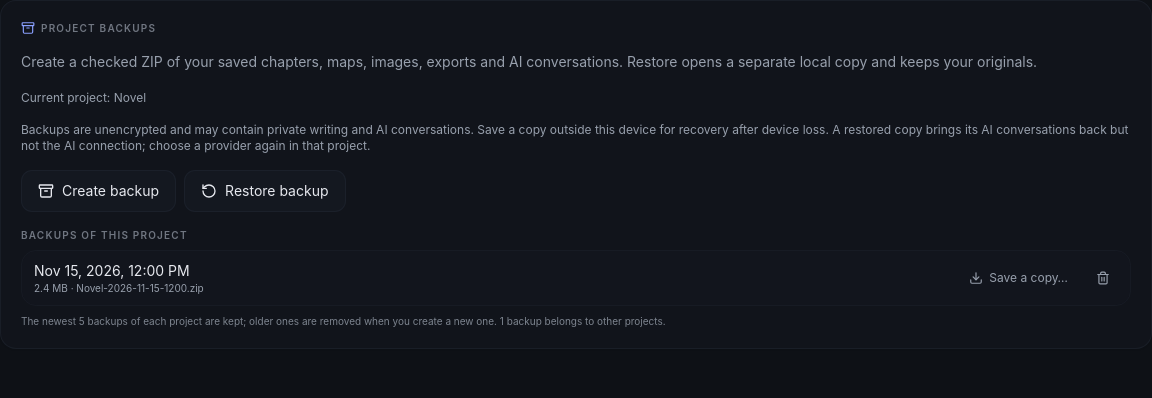
Test: Project backup recovery UX (regression) › deletes a backup only after confirming, and lists only this project with a count of others
expect the text "1 backup belongs to other projects" is shown: met, box [497, 315, 666, 327]
expect the text "newest 5 backups of each project are kept" is shown: met, box [21, 315, 666, 327]
What coordinates should you click on to do the following:
click the button named "Delete Novel-2026"
I would click on:
 (1103, 278)
Its box is [1088, 267, 1118, 289].
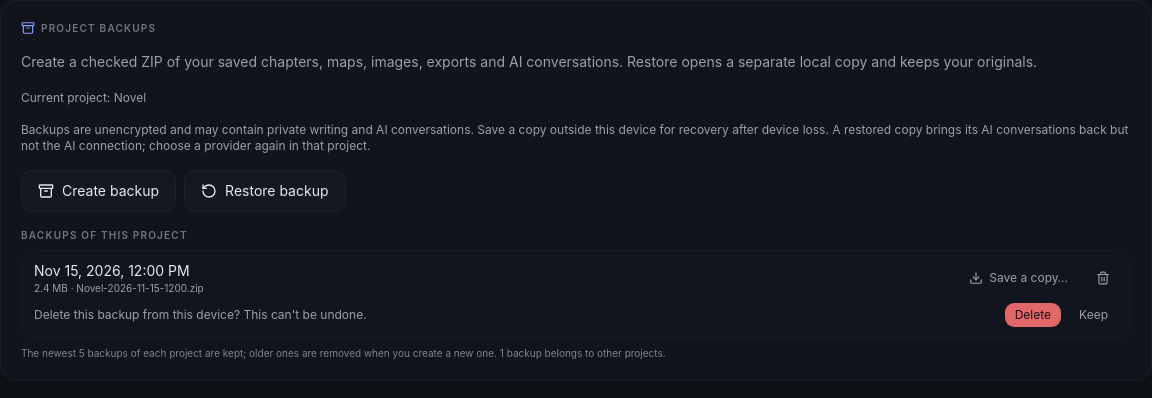
What coordinates should you click on to do the following:
click the button "Keep"
I would click on:
 (1094, 315)
Its box is [1069, 303, 1118, 327].
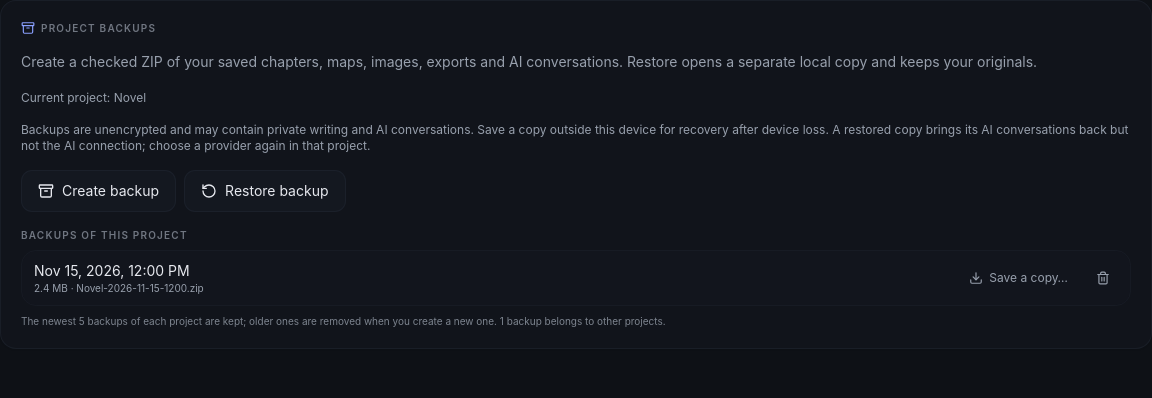
What coordinates should you click on to do the following:
click the button named "Delete Novel-2026"
I would click on:
 (1103, 278)
Its box is [1088, 267, 1118, 289].
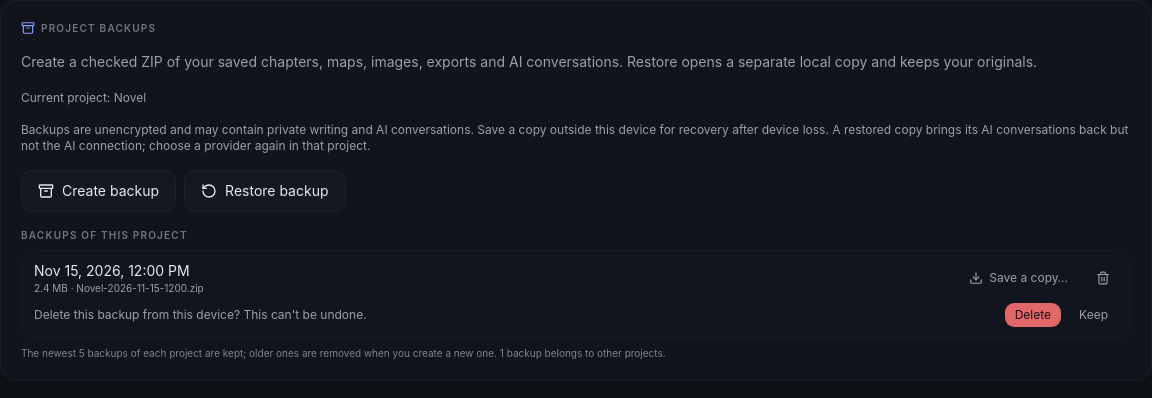
What coordinates should you click on to do the following:
click the button "Delete"
I would click on:
 (1033, 315)
Its box is [1005, 303, 1061, 327].
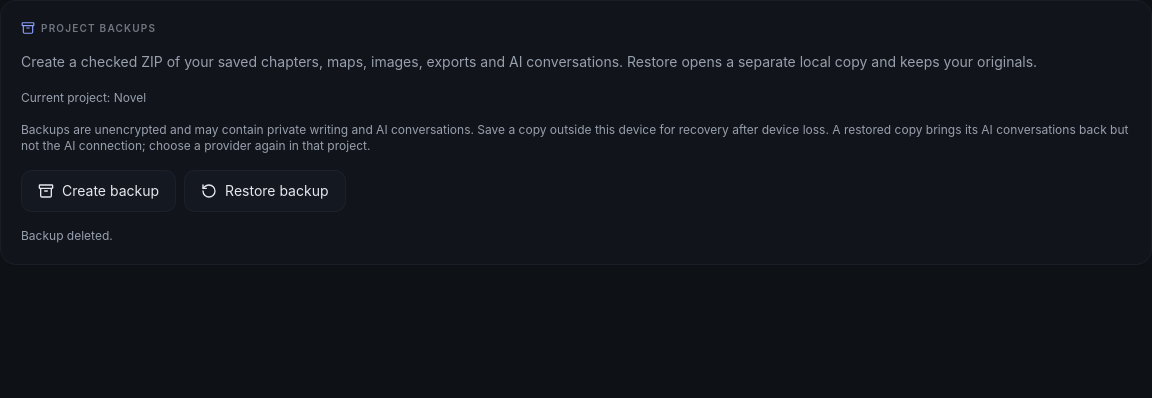
expect the text "Backup deleted." is shown: met, box [21, 228, 113, 243]
